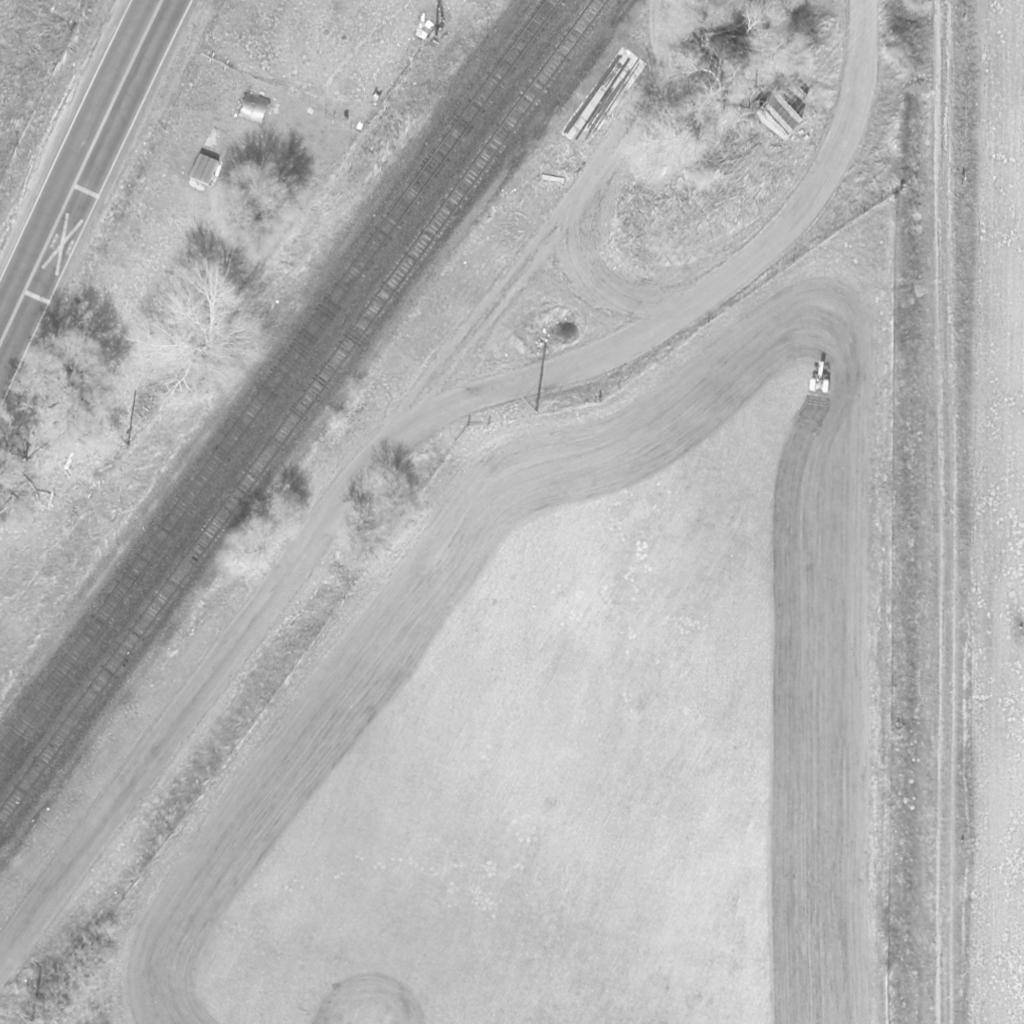vehicle: (808, 361, 832, 393)
